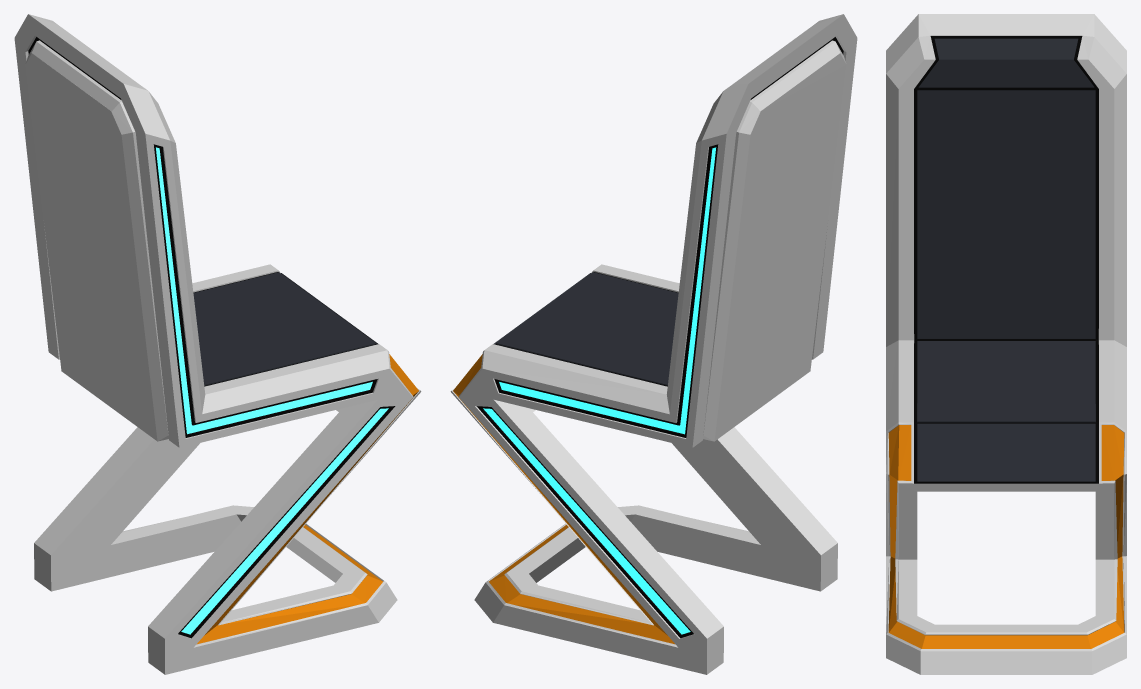
Rendered from SM_Chair_Room.fbx.
The picture shows the model from 3 angles, left to right: view 1: azimuth 30°, elevation 25°; view 2: azimuth 150°, elevation 25°; view 3: azimuth 270°, elevation 25°; orthographic projection. The views are drawn at different scales.
Visible parts, largest first — view 1: SM_Chair_Room; view 2: SM_Chair_Room; view 3: SM_Chair_Room.
Part boxes in pixels (x1,y1,x2,y2): SM_Chair_Room: (14, 14, 421, 674); SM_Chair_Room: (450, 14, 857, 674); SM_Chair_Room: (886, 14, 1126, 674).
Bounding box in the file's own units: 57.85 × 111 × 45.
